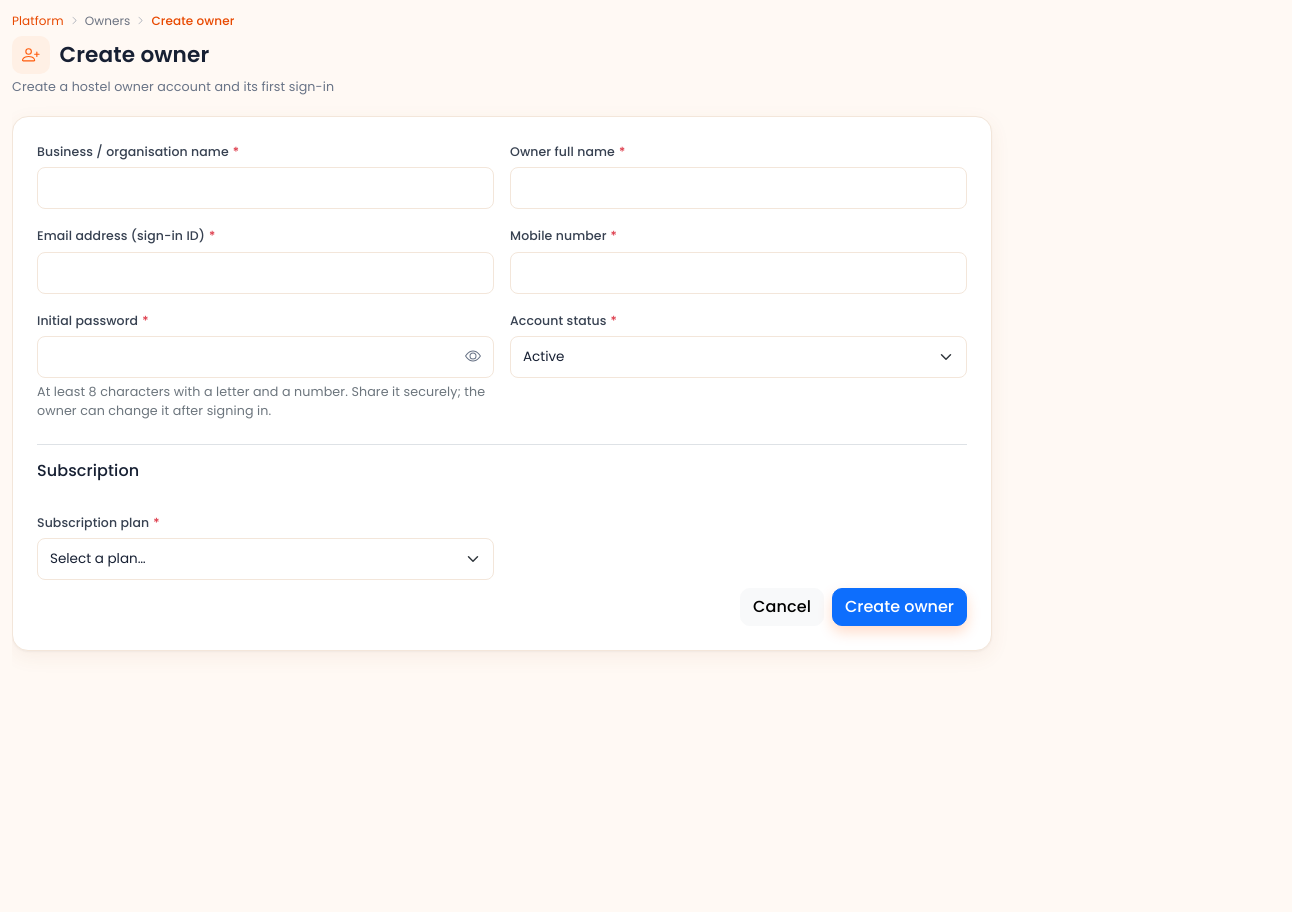
Test: choosing a plan fills limits, trial, grace, price and the expiry date from the plan
The image size is (1292, 912).
Select "Growth — ₹399/month" in the dropdown labelled "Subscription plan*" at (266, 559), box left=37, top=538, right=494, bottom=580
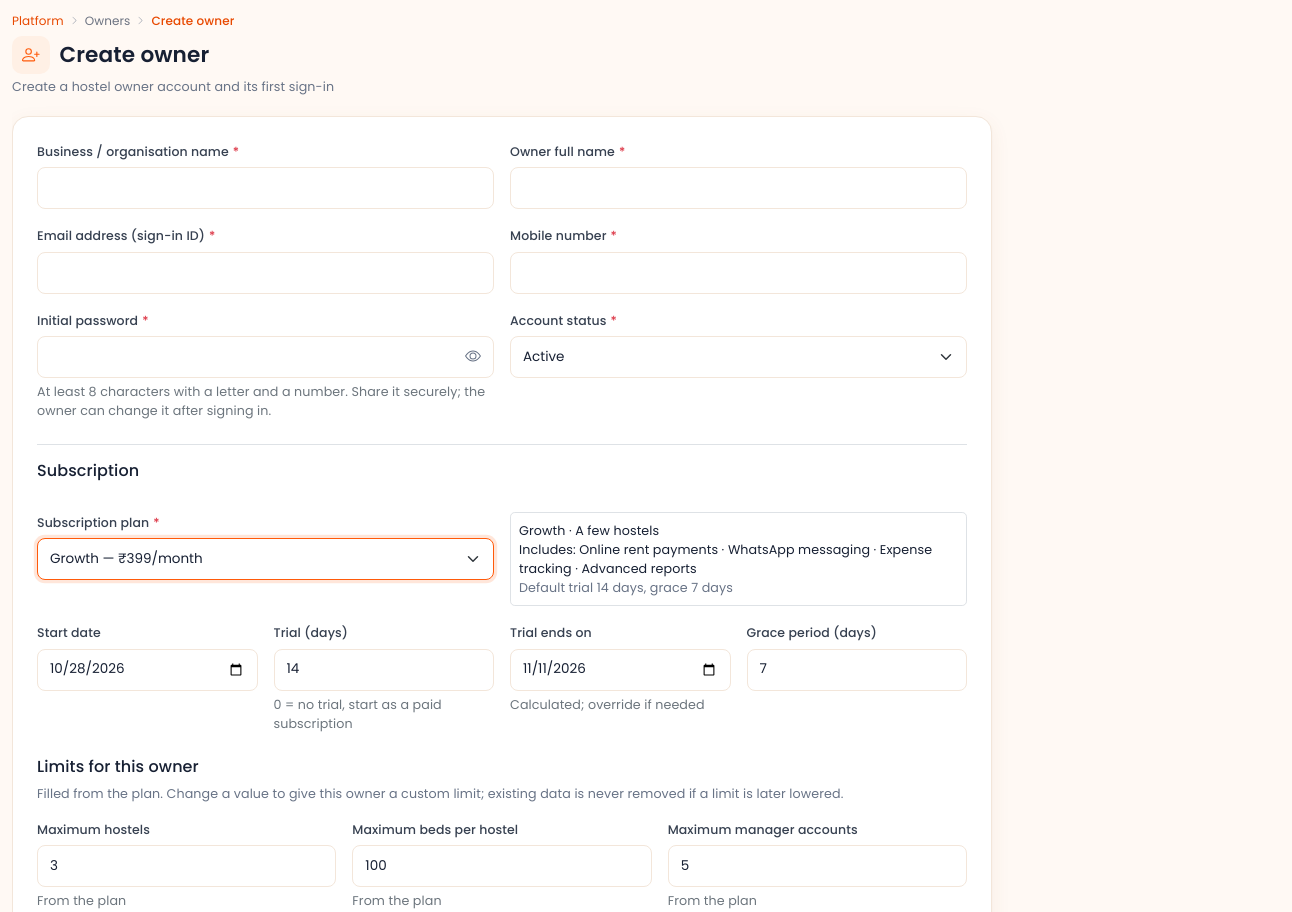
Now the number field labelled "Maximum hostels" holds "3", box left=37, top=845, right=336, bottom=887
Now the number field labelled "Maximum beds per hostel" holds "100", box left=352, top=845, right=652, bottom=887
Now the number field labelled "Maximum manager accounts" holds "5", box left=668, top=845, right=967, bottom=887
